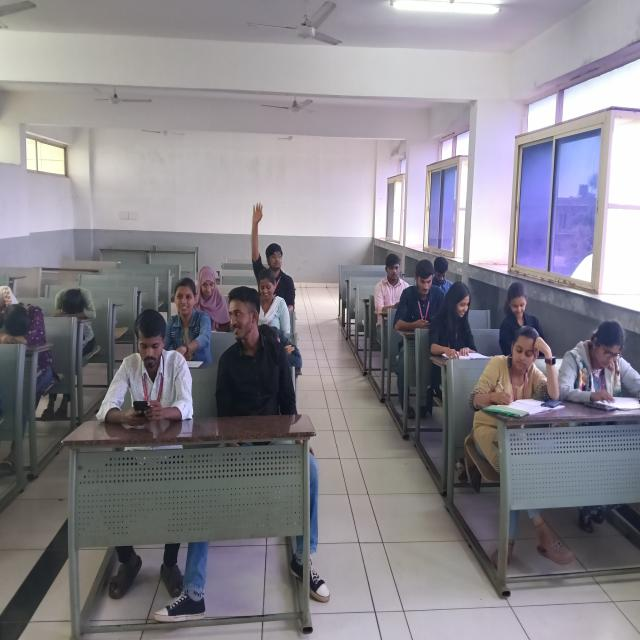Hand Rising: (219, 189, 299, 321)
Reading: (427, 278, 487, 379)
Sleeping: (1, 277, 48, 403), (50, 276, 98, 369)
Using Phone: (94, 300, 202, 450), (389, 258, 445, 332)
Writing: (479, 324, 574, 566), (558, 315, 640, 433)
